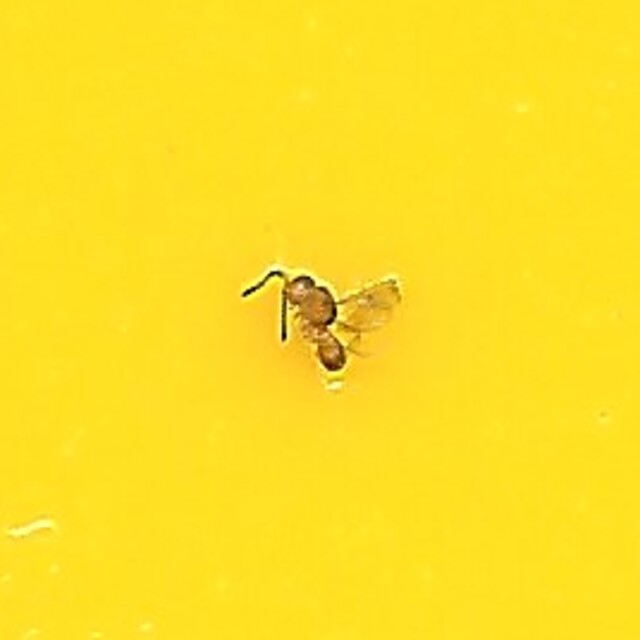Hymenoptera: (239, 256, 401, 384)
